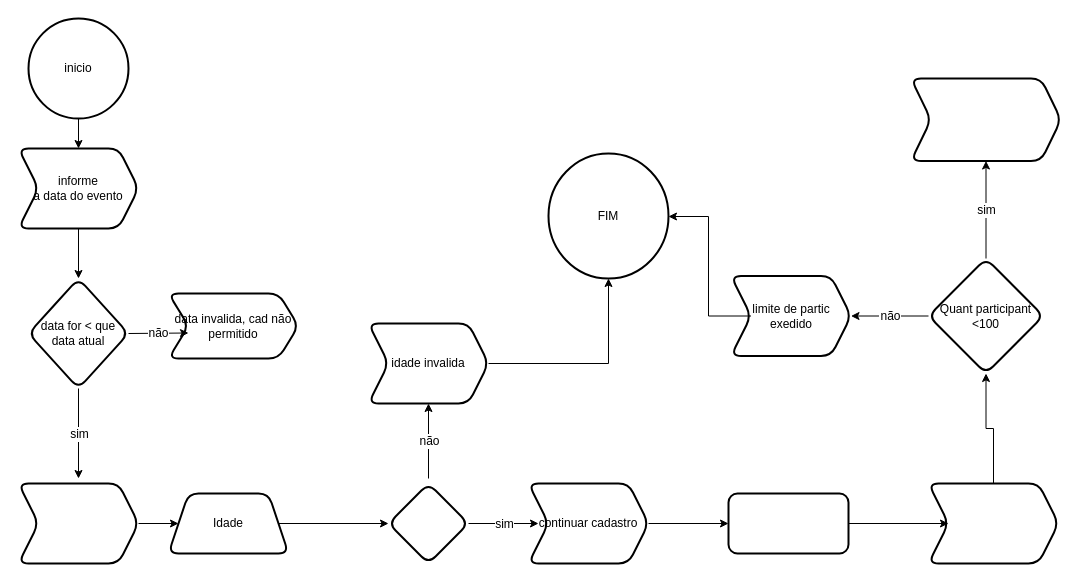
Image size: 1079x581. Some labels were removed from this diagram. Here are the shapes that lost their labels. From the top down, the box of each, then its label:
(910, 77, 1062, 162): Concluir cadastro do participante
(17, 482, 139, 564): realizar cadastro
(387, 482, 469, 564): idade > 18 Anos
(727, 492, 849, 554): Relatório do Evento
(927, 482, 1059, 564): Listar participantes
